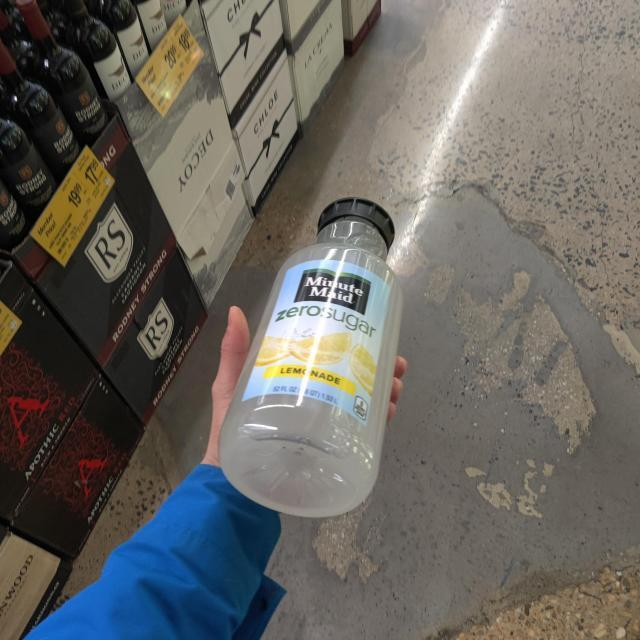Juice: (238, 168, 424, 538)
